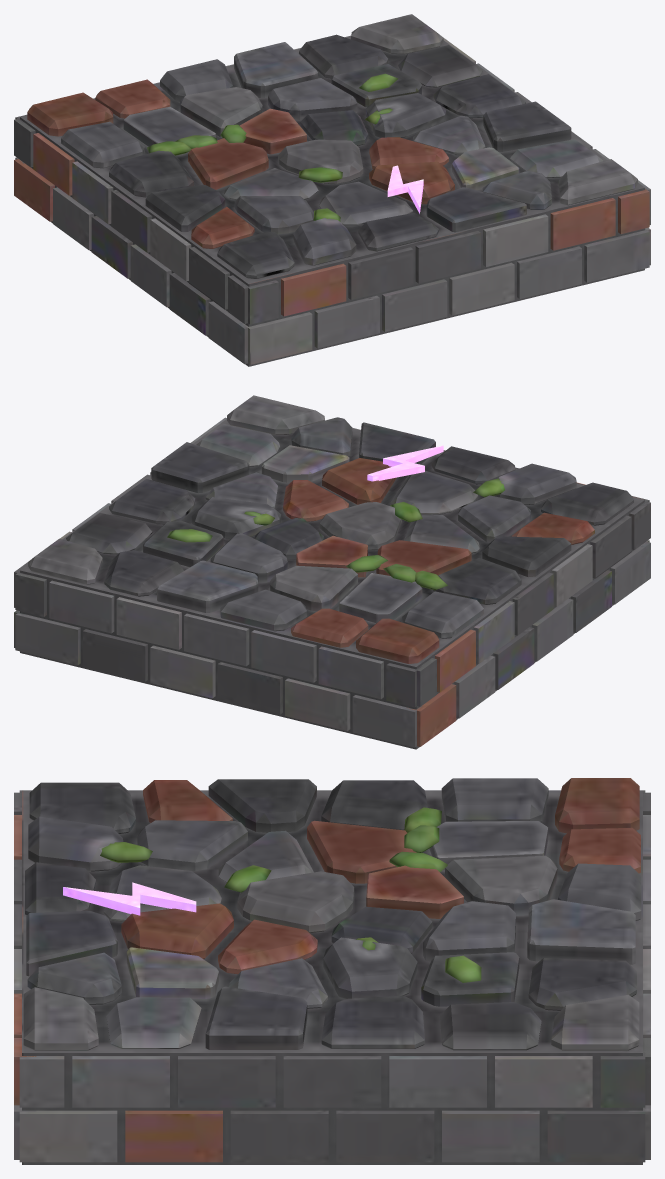
The model's file is plate_1_perun.glb.
The picture shows the model from 3 angles, top to bottom: view 1: azimuth 30°, elevation 25°; view 2: azimuth 150°, elevation 25°; view 3: azimuth 270°, elevation 25°; orthographic projection. The views are drawn at different scales.
Parts seen in each view (by area): view 1: plate_1_perun; view 2: plate_1_perun; view 3: plate_1_perun.
Boxes of the visible parts, x1,y1,x2,y2 form: plate_1_perun: [14, 14, 650, 366]; plate_1_perun: [14, 395, 650, 749]; plate_1_perun: [14, 778, 650, 1164].
Size of the model in its own units: 2.01 by 0.484 by 2.01.
Materials: 1 (1 with a texture image).
